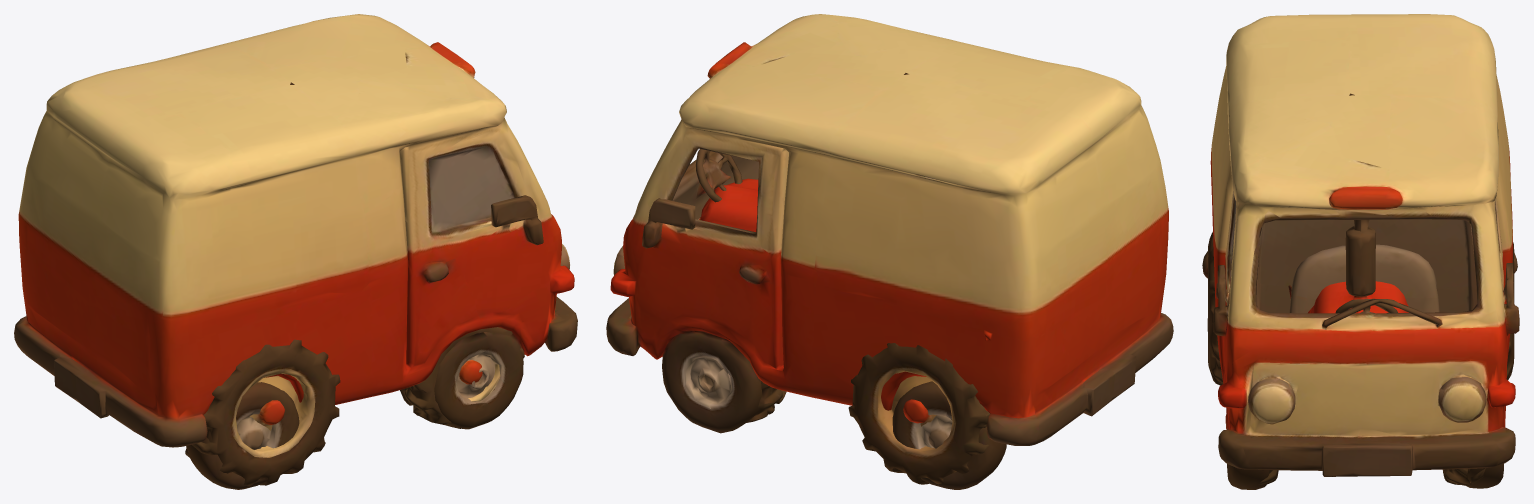
File: engins.glb
3 renders of one model, left to right at view 1: azimuth 30°, elevation 25°; view 2: azimuth 150°, elevation 25°; view 3: azimuth 270°, elevation 25°, orthographic.
Parts seen in each view (by area): view 1: camionnette, tracteur; view 2: camionnette, tracteur; view 3: camionnette, tracteur.
Part boxes in pixels (box(x1,y1,x2,y2)): camionnette: box(14, 14, 577, 489); tracteur: box(185, 327, 524, 486); camionnette: box(606, 14, 1173, 489); tracteur: box(698, 178, 990, 484); camionnette: box(1202, 14, 1519, 489); tracteur: box(1207, 219, 1514, 485).
Bounding box in the file's own units: 3.8 × 2.69 × 2.34.
Materials: 1 (1 with a texture image).
